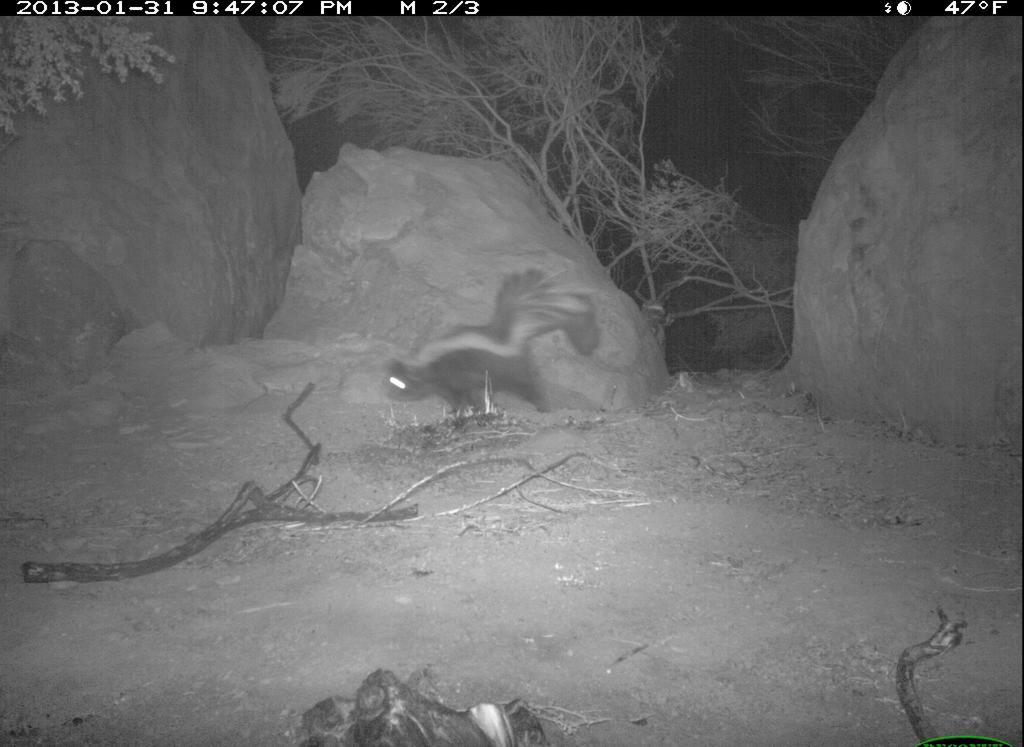skunk: (378, 269, 607, 432)
